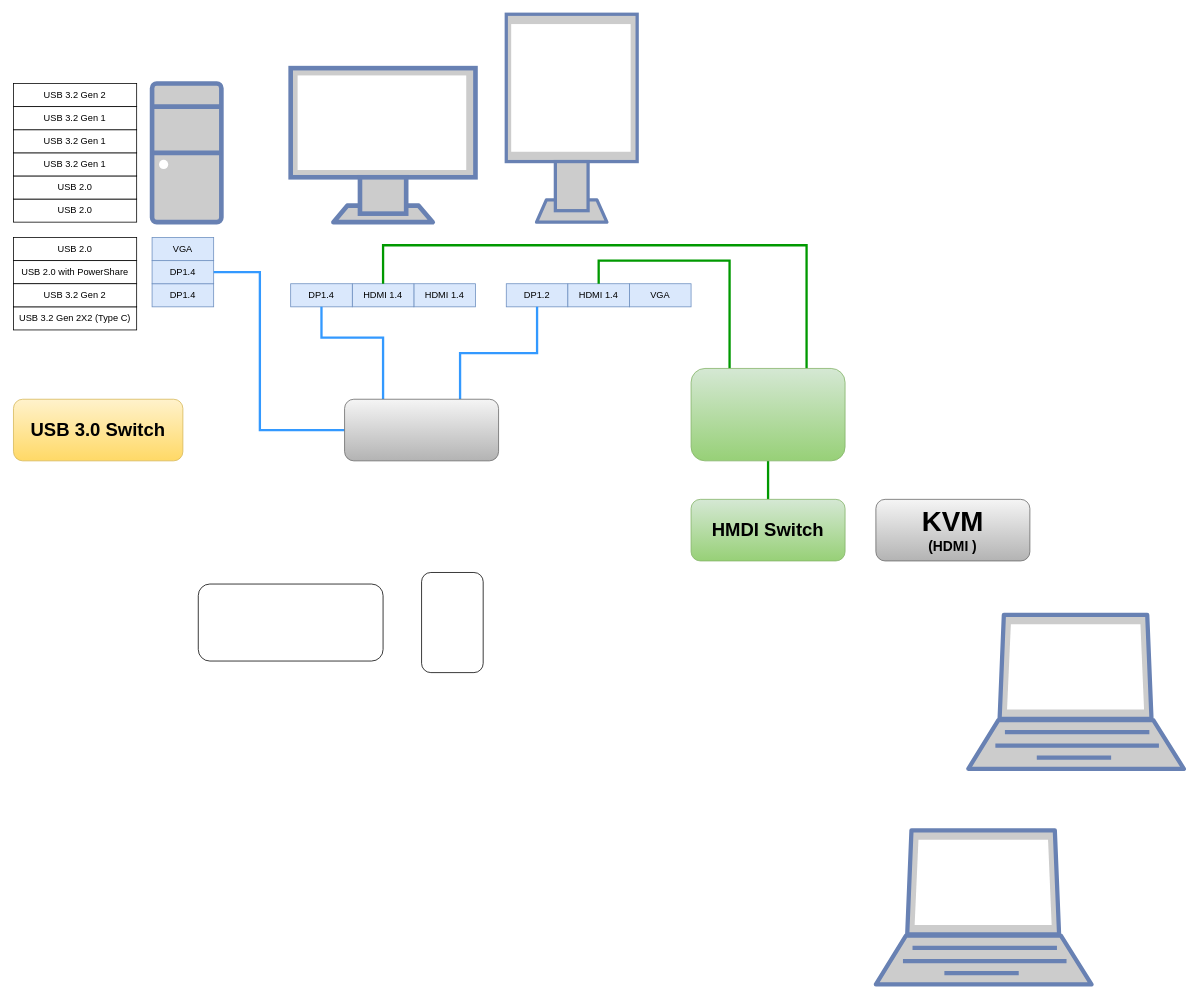
Some shapes in this 1198 by 998 pixel diagram are drawn without their labels. The shapes that lost their labels are listed below. From the top down, each one's centre as x and y in pixels, then its label:
At (x=421, y=429): "KVM (DP 1.4)".
At (x=767, y=414): "HMDI Bi-Directional Switch".
At (x=290, y=622): "Keyboard".
At (x=452, y=622): "Mouse".
